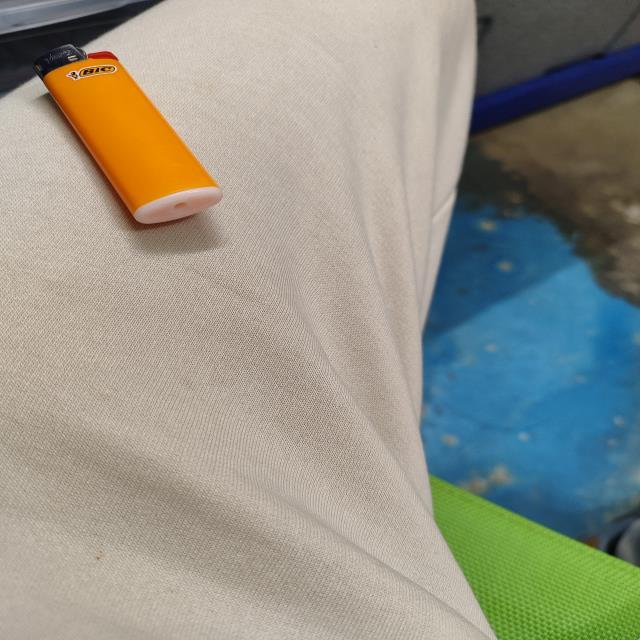lighter: (35, 45, 219, 224)
